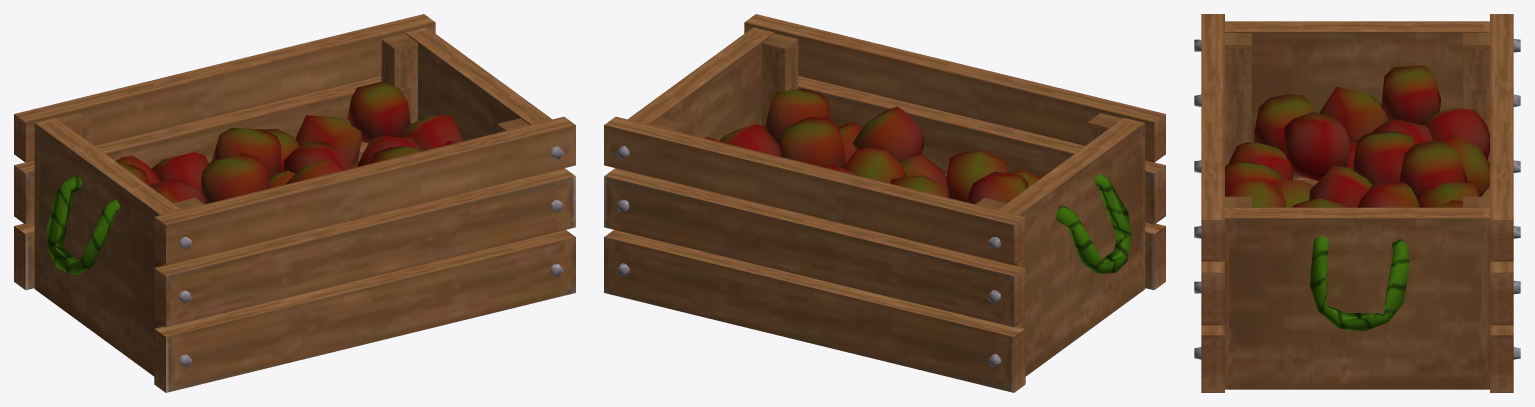
The model's file is FarmCrate_Apple.gltf.
3 renders of one model, left to right at view 1: azimuth 30°, elevation 25°; view 2: azimuth 150°, elevation 25°; view 3: azimuth 270°, elevation 25°, orthographic. The views are drawn at different scales.
Visible parts, largest first — view 1: FarmCrate_Apple; view 2: FarmCrate_Apple; view 3: FarmCrate_Apple.
Boxes of the visible parts, box(x1,y1,x2,y2) form: FarmCrate_Apple: box(14, 14, 575, 392); FarmCrate_Apple: box(604, 14, 1165, 392); FarmCrate_Apple: box(1194, 14, 1520, 392).
Bounding box in the file's own units: 0.7112 × 0.2437 × 0.4142.
3 materials, 3 textured.
